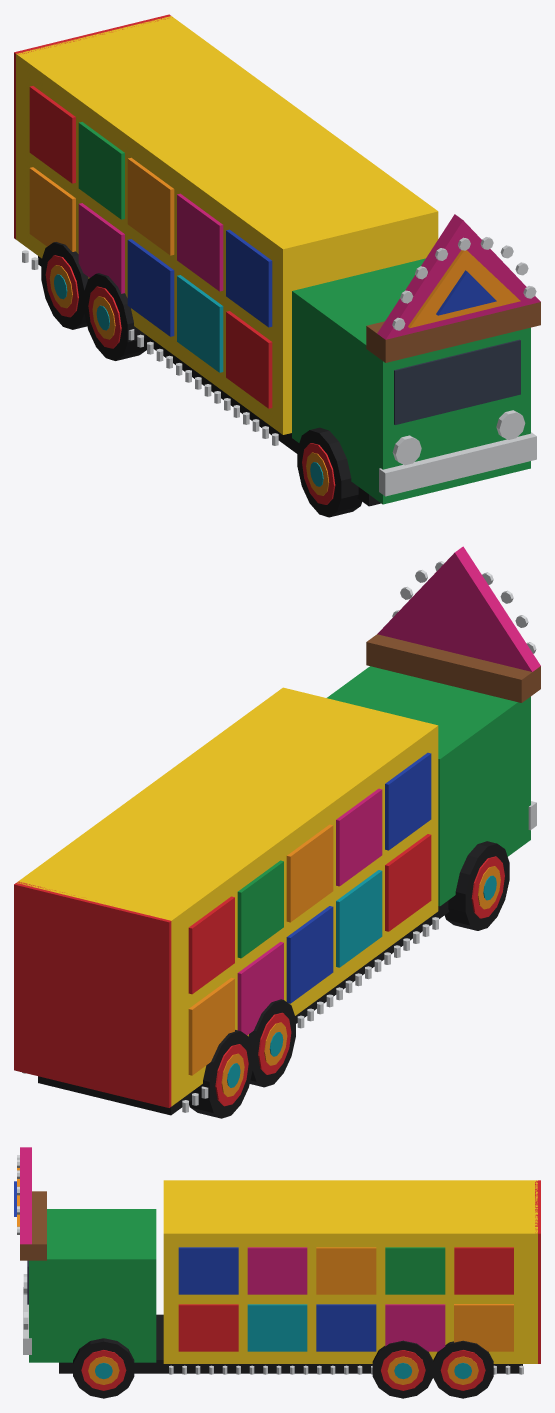
Rendered from truck-art.glb.
3 renders of one model, top to bottom at view 1: azimuth 30°, elevation 25°; view 2: azimuth 150°, elevation 25°; view 3: azimuth 270°, elevation 25°, orthographic. The views are drawn at different scales.
Parts seen in each view (by area): view 1: TruckArt_Body, TruckArt_Cab, TruckArt_Magenta, TruckArt_Orange, TruckArt_Red, TruckArt_Chrome, TruckArt_Royal, TruckArt_Tyre, TruckArt_Glass, TruckArt_Wood, TruckArt_Teal; view 2: TruckArt_Body, TruckArt_Red, TruckArt_Cab, TruckArt_Magenta, TruckArt_Tyre, TruckArt_Orange, TruckArt_Royal, TruckArt_Wood, TruckArt_Teal, TruckArt_Chrome; view 3: TruckArt_Body, TruckArt_Cab, TruckArt_Red, TruckArt_Tyre, TruckArt_Orange, TruckArt_Magenta, TruckArt_Royal, TruckArt_Teal, TruckArt_Chrome, TruckArt_Wood.
Part boxes in pixels (<box>): TruckArt_Body: <box>16,16,438,434</box>; TruckArt_Cab: <box>78,122,530,504</box>; TruckArt_Magenta: <box>78,193,540,339</box>; TruckArt_Orange: <box>29,157,520,495</box>; TruckArt_Red: <box>14,14,335,504</box>; TruckArt_Chrome: <box>22,237,536,496</box>; TruckArt_Royal: <box>127,229,496,336</box>; TruckArt_Tyre: <box>38,242,380,517</box>; TruckArt_Glass: <box>394,339,520,424</box>; TruckArt_Wood: <box>366,302,540,362</box>; TruckArt_Teal: <box>54,274,323,486</box>; TruckArt_Body: <box>16,687,438,1106</box>; TruckArt_Red: <box>14,834,504,1107</box>; TruckArt_Cab: <box>237,666,530,958</box>; TruckArt_Magenta: <box>237,546,540,1035</box>; TruckArt_Tyre: <box>38,841,509,1118</box>; TruckArt_Orange: <box>188,824,500,1096</box>; TruckArt_Royal: <box>286,752,431,1003</box>; TruckArt_Wood: <box>366,634,540,702</box>; TruckArt_Teal: <box>227,870,496,1087</box>; TruckArt_Chrome: <box>22,561,536,1112</box>; TruckArt_Body: <box>163,1180,537,1363</box>; TruckArt_Cab: <box>29,1209,445,1362</box>; TruckArt_Red: <box>81,1180,540,1390</box>; TruckArt_Tyre: <box>59,1314,522,1398</box>; TruckArt_Orange: <box>17,1168,513,1384</box>; TruckArt_Magenta: <box>20,1147,445,1351</box>; TruckArt_Royal: <box>14,1181,376,1351</box>; TruckArt_Teal: <box>95,1304,471,1379</box>; TruckArt_Chrome: <box>17,1155,523,1374</box>; TruckArt_Wood: <box>20,1191,46,1260</box>.
Size of the model in its own units: 9.4 by 16.4 by 35.2.
